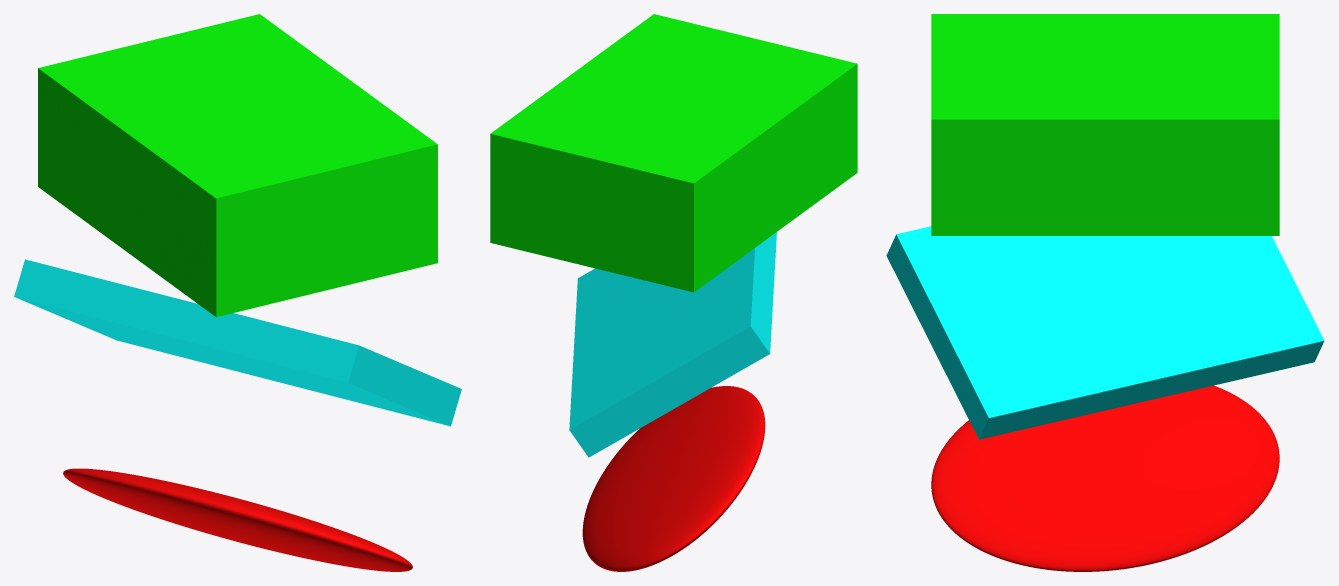
Rendered from bounding-boxes.glb.
3 renders of one model, left to right at view 1: azimuth 30°, elevation 25°; view 2: azimuth 150°, elevation 25°; view 3: azimuth 270°, elevation 25°, orthographic. The views are drawn at different scales.
Parts seen in each view (by area): view 1: =>[0:1:1:4], =>[0:1:1:3], =>[0:1:1:2]; view 2: =>[0:1:1:4], =>[0:1:1:3], =>[0:1:1:2]; view 3: =>[0:1:1:4], =>[0:1:1:3], =>[0:1:1:2].
Boxes of the visible parts, <box> form: =>[0:1:1:4]: <box>38,14,437,317</box>; =>[0:1:1:3]: <box>14,259,461,426</box>; =>[0:1:1:2]: <box>63,468,412,571</box>; =>[0:1:1:4]: <box>490,14,857,292</box>; =>[0:1:1:3]: <box>569,232,776,457</box>; =>[0:1:1:2]: <box>582,386,765,571</box>; =>[0:1:1:4]: <box>931,14,1279,235</box>; =>[0:1:1:3]: <box>886,226,1324,439</box>; =>[0:1:1:2]: <box>931,385,1279,571</box>.
Bounding box in the file's own units: 9.7 × 13.35 × 11.46.
